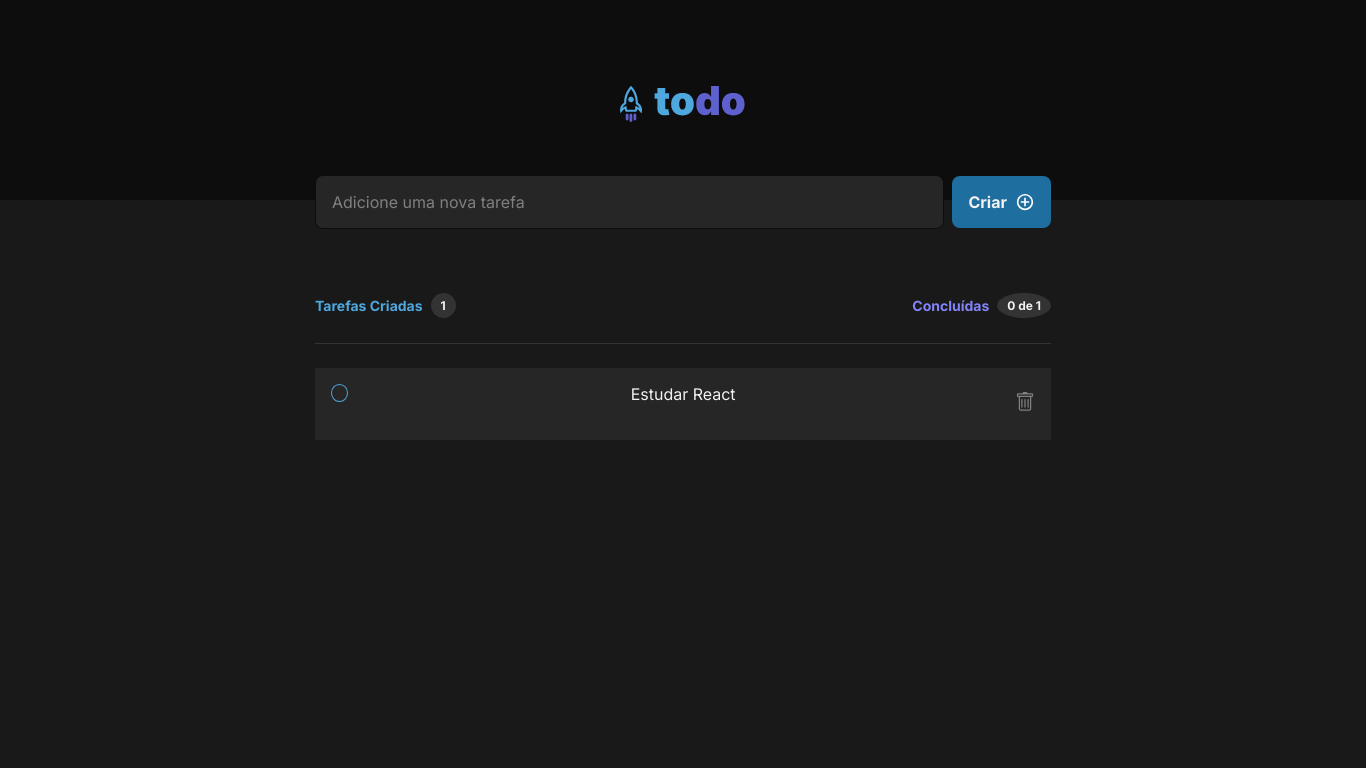
Test: Home Test › Should be able to done task
This screenshot has width=1366, height=768.
Type "Estudar NextJs" into the field with placeholder "Adicione uma nova tarefa" at (630,202), box [315, 175, 944, 229]
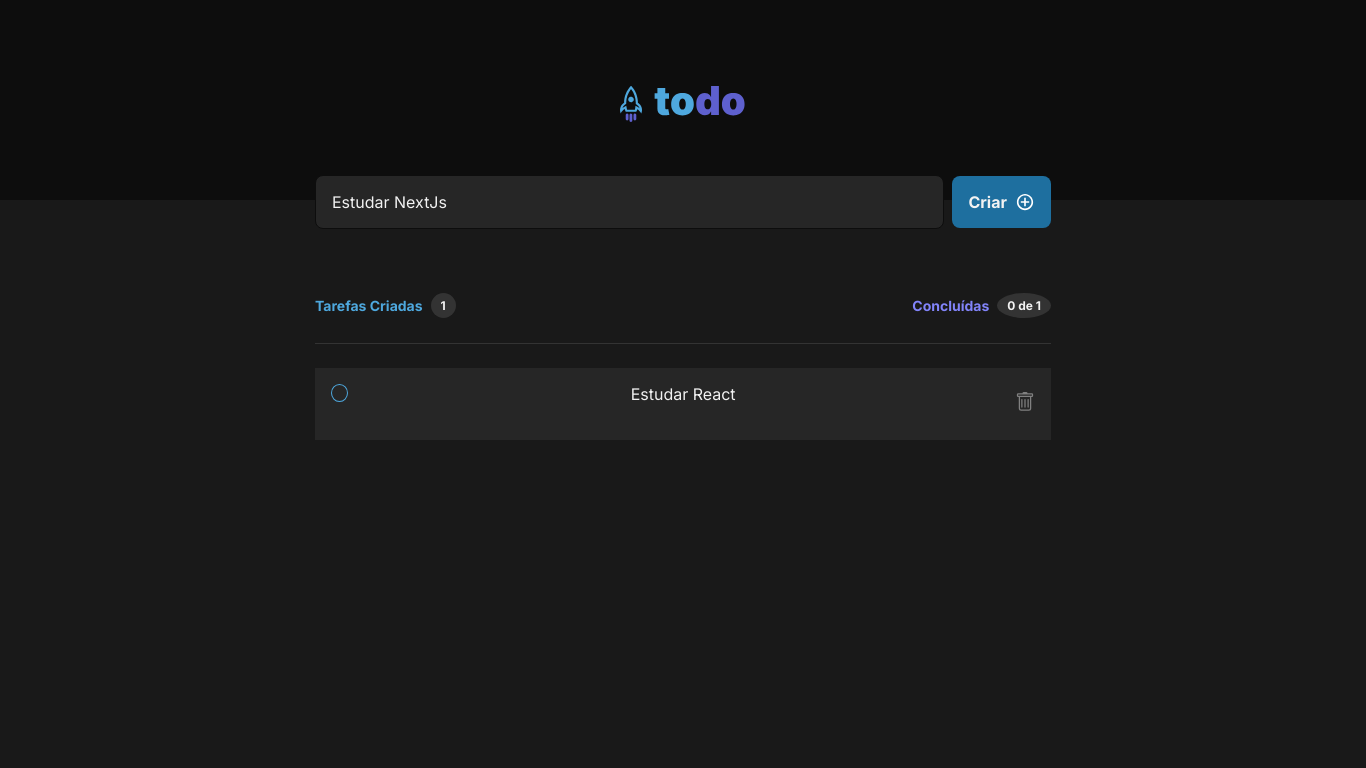
Click the button with test id "newTask" at (1002,202), box [952, 176, 1051, 228]
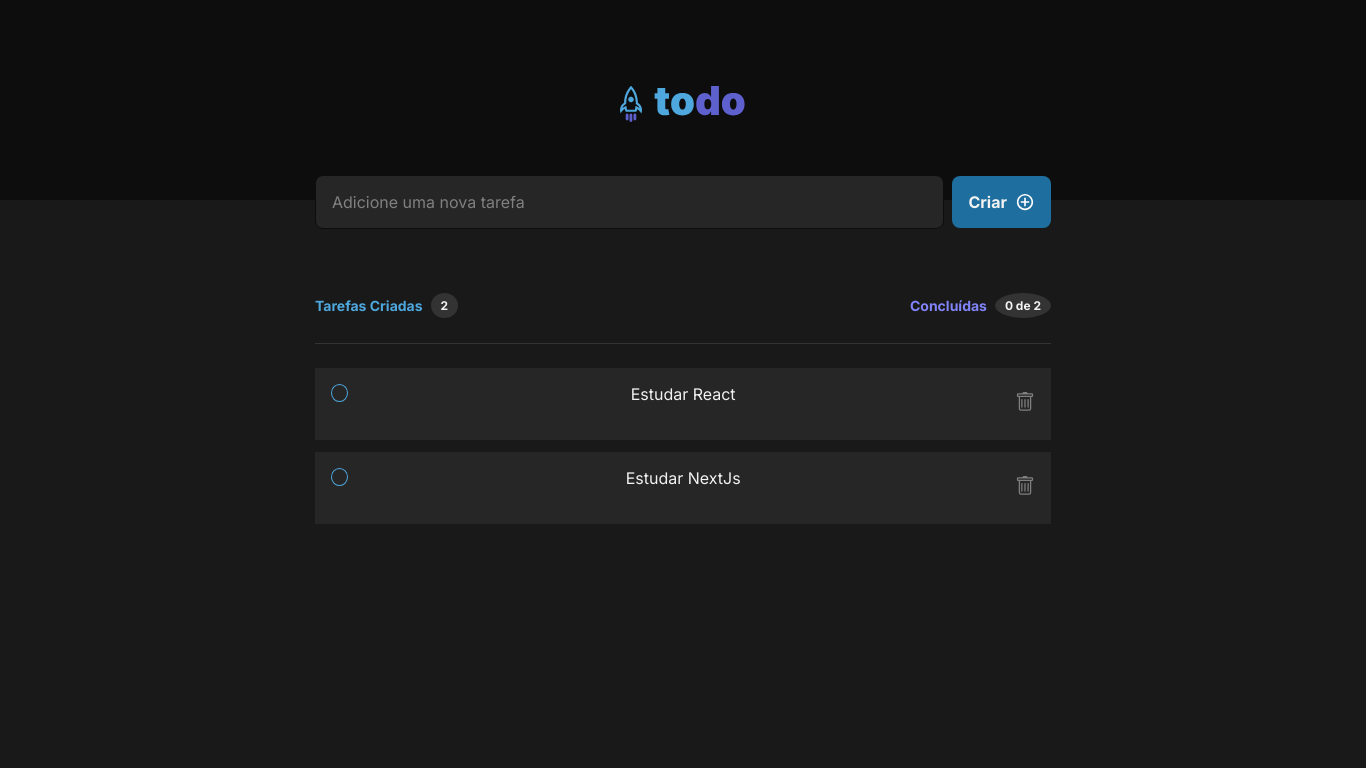
Now the text "Estudar NextJs" is shown, box [626, 468, 741, 488]
Now the button with test id "btn-change" showing "Estudar NextJs" is shown
Click the button with test id "btn-change" showing "Estudar NextJs" at (667,488), box [331, 452, 1003, 524]
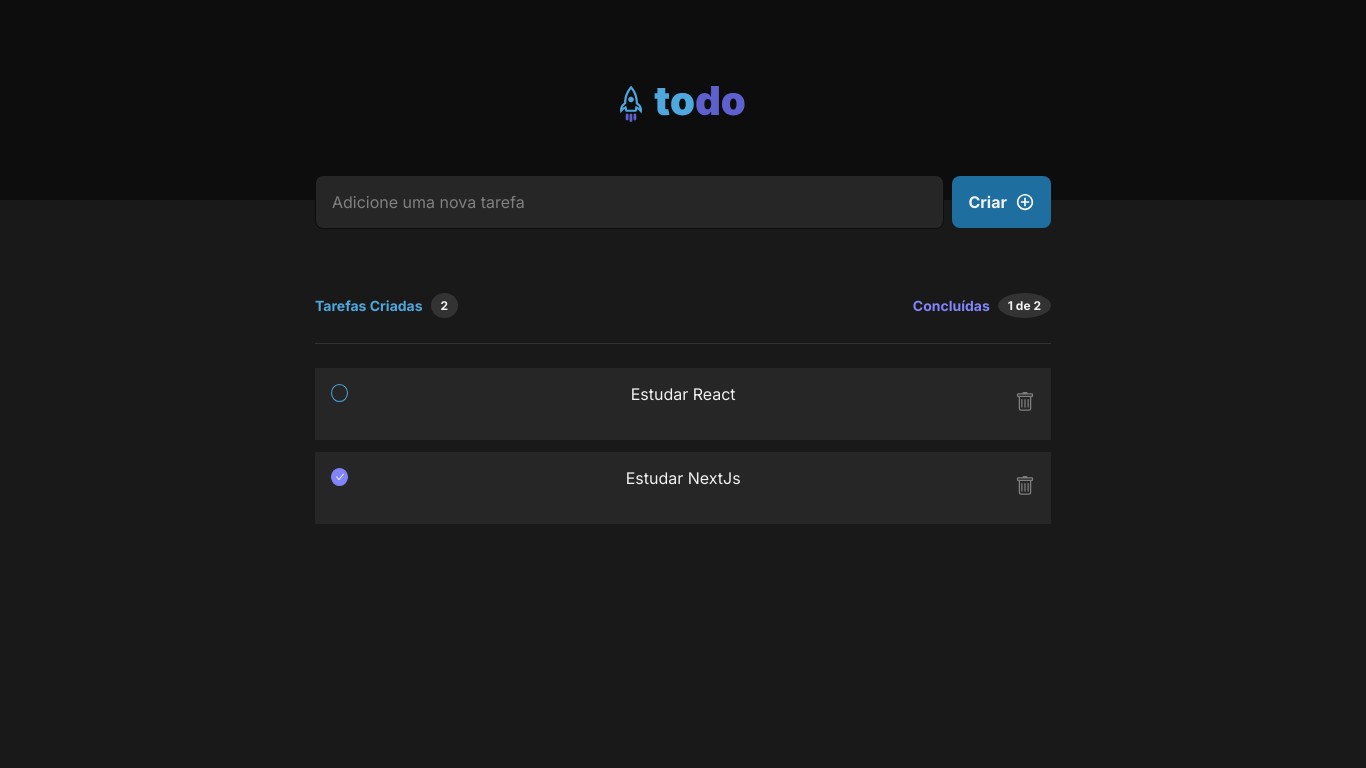
Now the element with test id "check-circle" is shown, box [331, 468, 348, 486]
